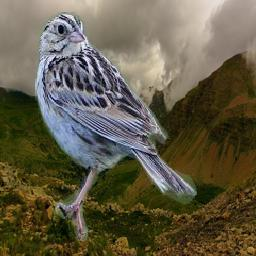Sparrow: (35, 13, 197, 242)
